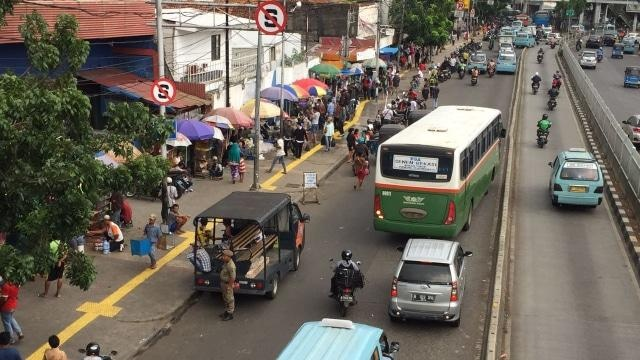Payung: (163, 115, 221, 149), (202, 106, 256, 131), (240, 97, 282, 122), (259, 85, 301, 104), (291, 77, 330, 97), (307, 63, 342, 79), (358, 59, 387, 74)
